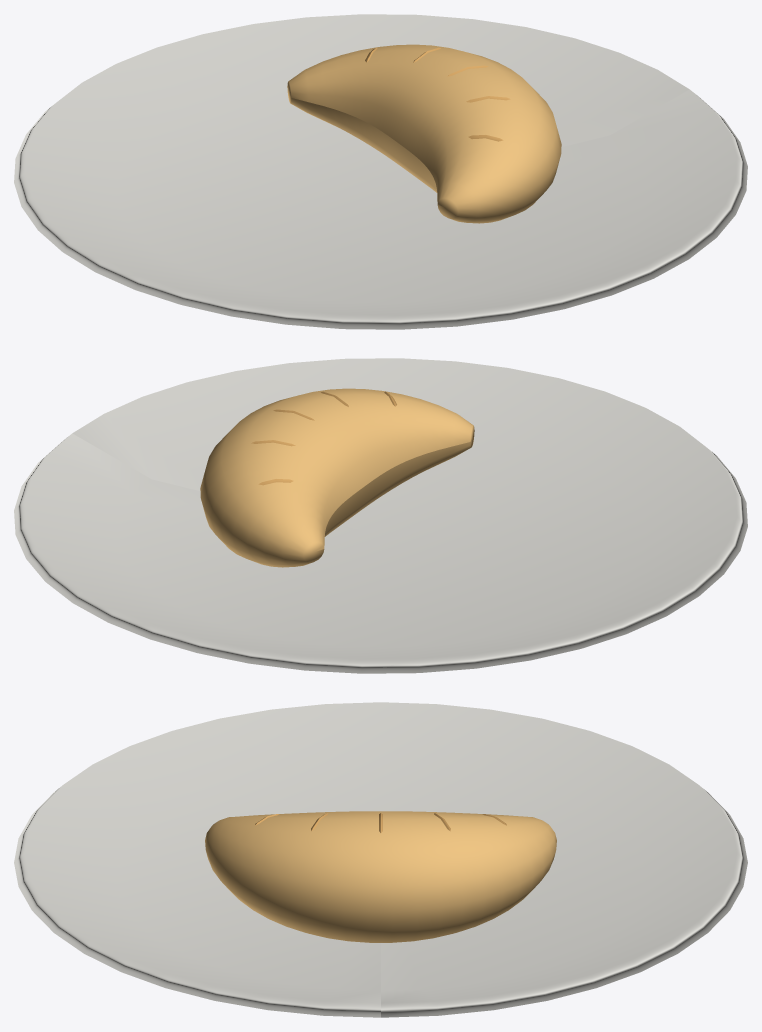
Rendered from butter-croissant.glb.
3 renders of one model, top to bottom at view 1: azimuth 30°, elevation 25°; view 2: azimuth 150°, elevation 25°; view 3: azimuth 270°, elevation 25°, orthographic.
Parts seen in each view (by area): view 1: butter-croissant; view 2: butter-croissant; view 3: butter-croissant.
Boxes of the visible parts, x1,y1,x2,y2 form: butter-croissant: (14, 14, 747, 329); butter-croissant: (14, 358, 747, 673); butter-croissant: (14, 702, 747, 1017).
Size of the model in its own units: 0.22 by 0.0396 by 0.22.
